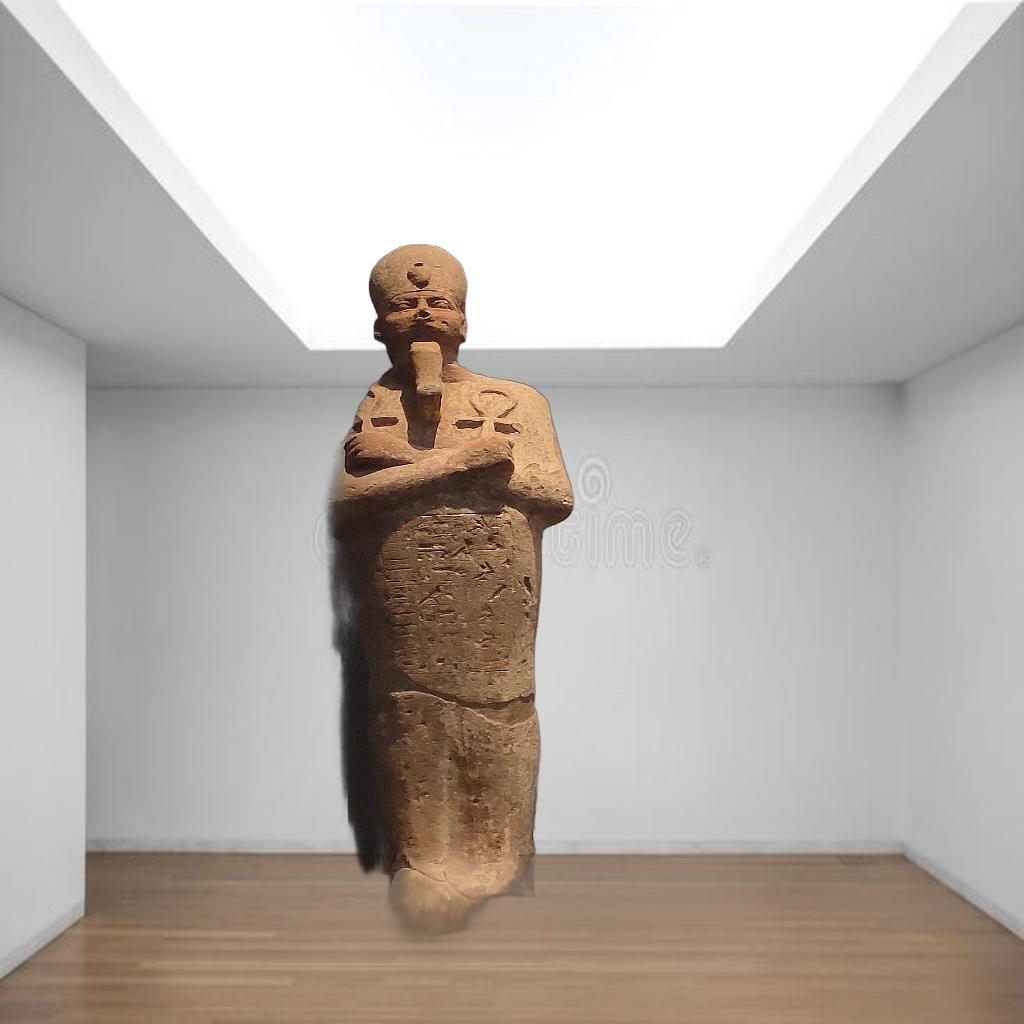Statue of Mentuhotep II: (320, 244, 584, 1024)
